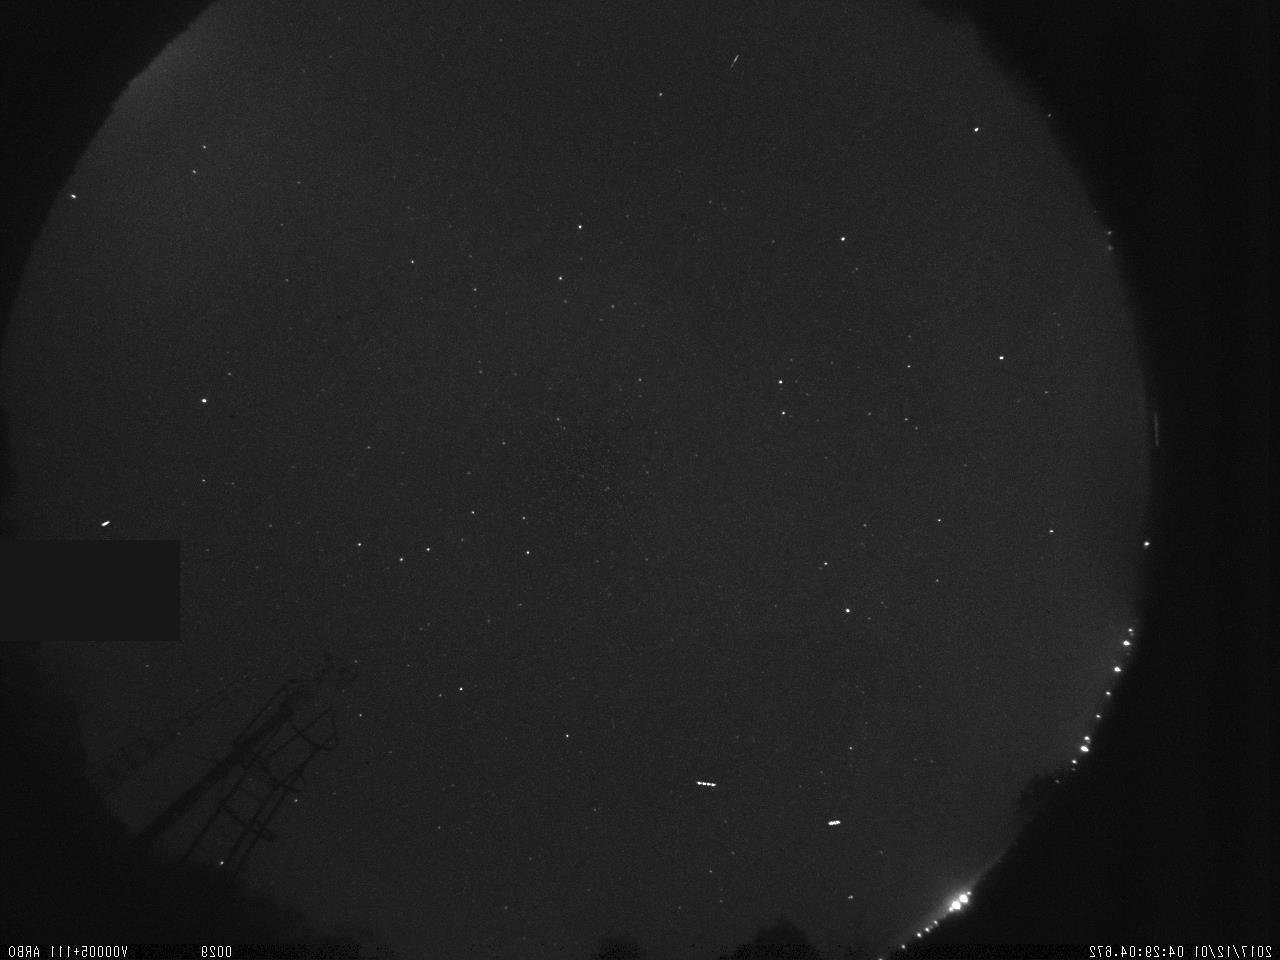satelite: (684, 768, 723, 795), (819, 815, 848, 833)
